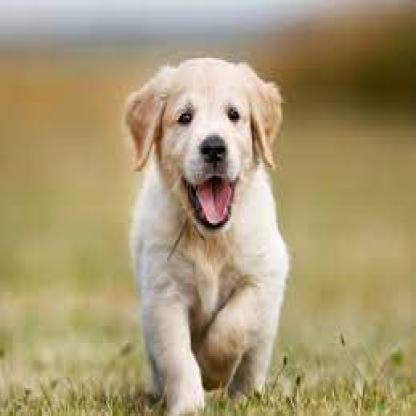dog: (126, 51, 288, 410)
